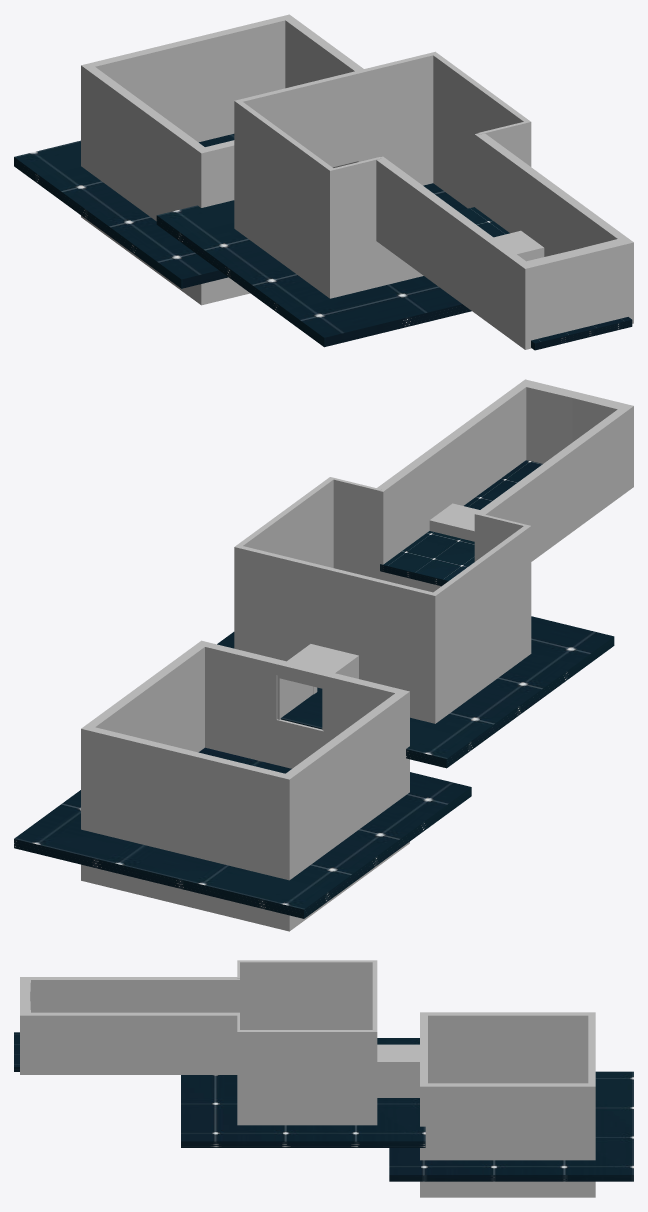
File: Stage1.gltf
The picture shows the model from 3 angles, top to bottom: view 1: azimuth 30°, elevation 25°; view 2: azimuth 150°, elevation 25°; view 3: azimuth 270°, elevation 25°; orthographic projection. The views are drawn at different scales.
Parts seen in each view (by area): view 1: 立方体.001, 立方体.007, Start, 立方体.002, 立方体.006, 立方体.003, 立方体; view 2: 立方体.007, 立方体.001, Start, 立方体.006, 立方体.002, 立方体.003, 立方体.005, 立方体; view 3: 立方体.007, 立方体.001, Start, 立方体.002, 立方体.006, 立方体.005.
Boxes of the visible parts, x1,y1,x2,y2 form: 立方体.001: [234, 51, 531, 298]; 立方体.007: [81, 14, 363, 305]; Start: [376, 133, 633, 349]; 立方体.002: [156, 183, 471, 347]; 立方体.006: [14, 134, 234, 288]; 立方体.003: [458, 207, 632, 350]; 立方体: [494, 230, 544, 261]; 立方体.007: [81, 640, 409, 931]; 立方体.001: [234, 477, 531, 723]; Start: [377, 379, 633, 564]; 立方体.006: [14, 747, 471, 918]; 立方体.002: [217, 616, 614, 768]; 立方体.003: [380, 460, 542, 586]; 立方体.005: [277, 644, 358, 730]; 立方体: [429, 503, 479, 541]; 立方体.007: [420, 1012, 595, 1197]; 立方体.001: [237, 960, 377, 1125]; Start: [20, 977, 239, 1074]; 立方体.002: [181, 1038, 425, 1147]; 立方体.006: [389, 1071, 633, 1181]; 立方体.005: [377, 1044, 419, 1097].
Size of the model in its own units: 34.07 by 25.27 by 86.38.
